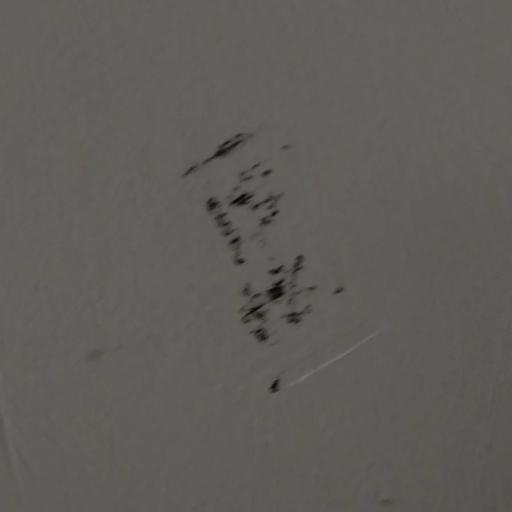stain: (152, 108, 414, 419)
